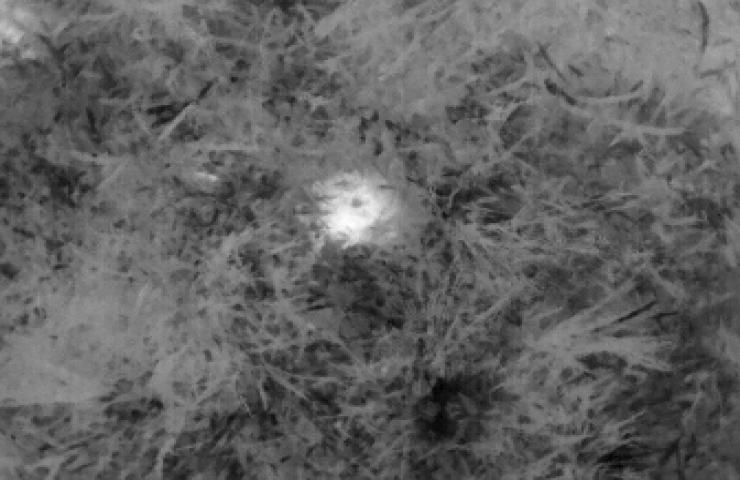landmines: (312, 166, 397, 245)
